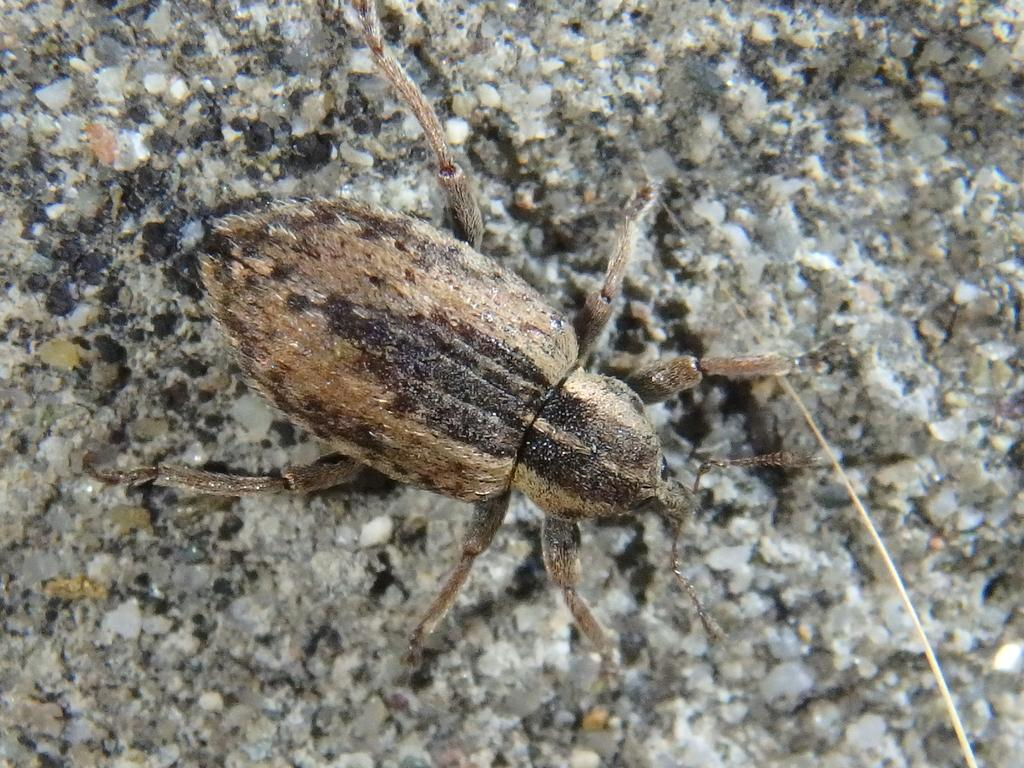weevils: (22, 0, 953, 768)
